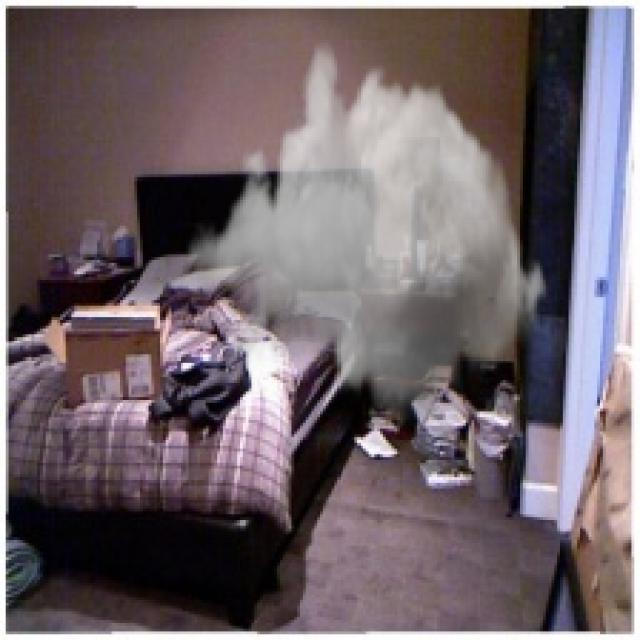smoke: (186, 37, 551, 434)
